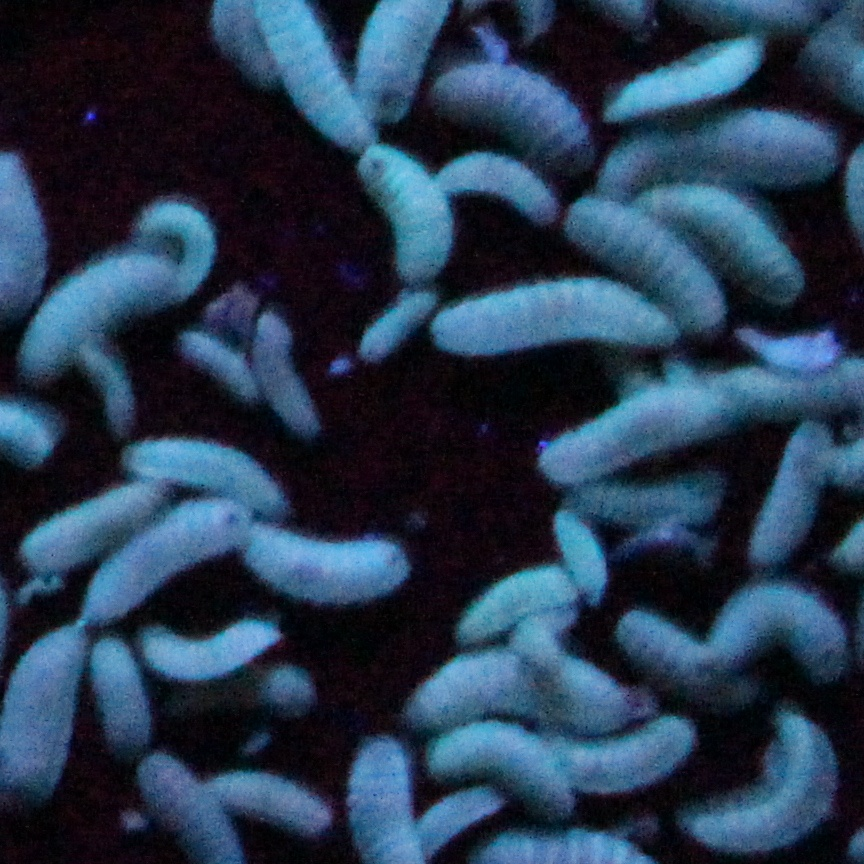larve: (31, 240, 184, 370), (544, 380, 736, 483), (644, 184, 804, 302), (577, 203, 727, 328), (429, 62, 595, 170), (94, 508, 247, 625), (704, 720, 845, 843), (604, 115, 832, 190), (432, 283, 658, 350), (122, 436, 292, 523), (241, 526, 411, 609), (17, 483, 167, 574), (428, 724, 580, 812), (743, 425, 830, 569), (357, 145, 449, 279), (614, 38, 756, 117), (708, 597, 848, 672), (554, 725, 697, 794), (624, 614, 729, 706), (408, 654, 562, 715), (205, 768, 329, 840), (89, 633, 155, 757), (440, 152, 552, 220), (138, 622, 278, 676), (464, 570, 575, 635), (570, 484, 722, 525), (548, 511, 611, 603)
